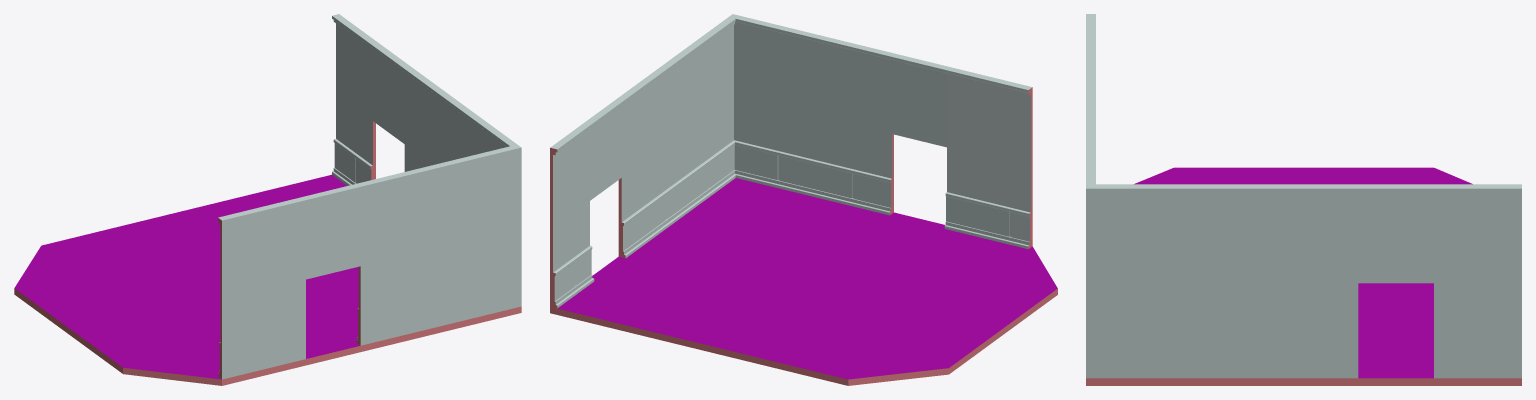
File: SittingRoom.fbx
The picture shows the model from 3 angles, left to right: view 1: azimuth 30°, elevation 25°; view 2: azimuth 150°, elevation 25°; view 3: azimuth 270°, elevation 25°; orthographic projection. The views are drawn at different scales.
Visible parts, largest first — view 1: polySurface282; view 2: polySurface282; view 3: polySurface282.
Part boxes in pixels (bbox=[...]): polySurface282: bbox=[14, 14, 521, 385]; polySurface282: bbox=[550, 14, 1057, 385]; polySurface282: bbox=[1086, 14, 1521, 385].
Bounding box in the file's own units: 119 × 52 × 104.
